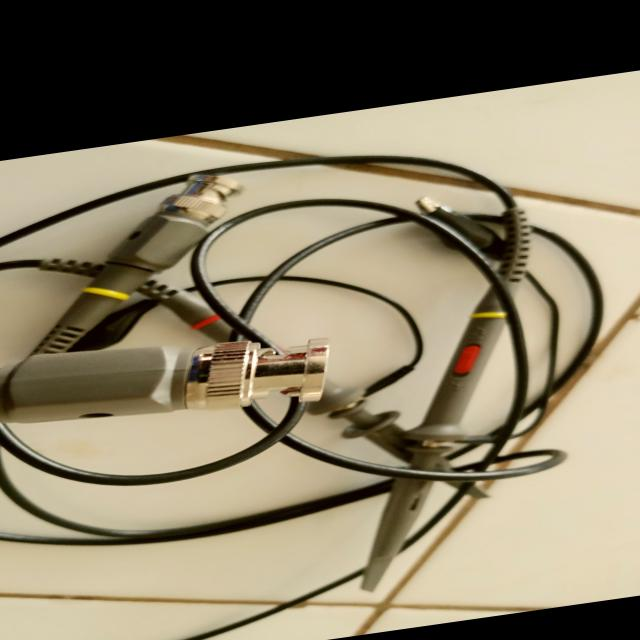CRO Probes: (0, 106, 622, 640)
